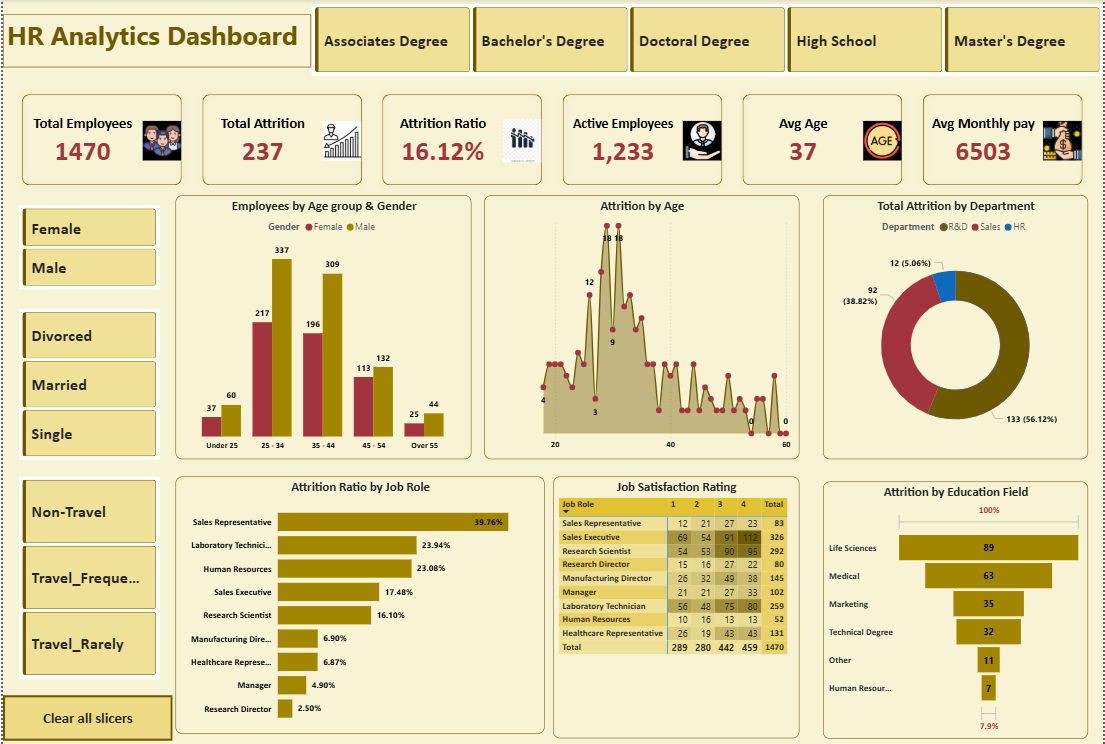

This screenshot's page, from the dashboard's own definition file:
{"tool":"powerbi","page":{"name":"Page 1","canvas":[1600,1100],"ordinal":0},"visuals":[{"type":"cardVisual","fields":{"Data":["HR data.Total Employees","HR data.Total Attrition","HR data.Attrition Ratio","HR data.Active Employees","Avg(HR data.Age)","Avg(HR data.Monthly Income)"]},"box":[0,125.8,1600,188.7],"z":0},{"type":"clusteredColumnChart","title":"Employees by Age group & Gender","fields":{"Category":["HR data.Age Group"],"Y":["HR data.Total Employees"],"Series":["HR data.Gender"]},"box":[251.6,300,430.6,383.9],"z":1000},{"type":"lineChart","title":" Attrition by Age","fields":{"Category":["HR data.Age"],"Y":["HR data.Total Attrition"]},"box":[700,300,458.1,383.9],"z":2000},{"type":"donutChart","fields":{"Category":["HR data.Department"],"Y":["HR data.Total Attrition"]},"box":[1193.5,300,385.5,383.9],"z":3000},{"type":"clusteredBarChart","fields":{"Category":["HR data.Job Role"],"Y":["HR data.Attrition Ratio"]},"box":[251.6,709.7,537.1,374.2],"z":4000},{"type":"pivotTable","title":"Job Satisfaction Rating","fields":{"Rows":["HR data.Job Role"],"Columns":["HR data.Job Satisfaction"],"Values":["HR data.Total Employees"]},"box":[800,709.7,358.1,380.6],"z":5000},{"type":"funnel","title":"Attrition  by Education Field","fields":{"Category":["HR data.Education Field"],"Y":["HR data.Total Attrition"]},"box":[1193.5,716.1,385.5,374.2],"z":6000},{"type":"advancedSlicerVisual","fields":{"Values":["HR data.Gender"]},"box":[24.2,314.5,204.8,122.6],"z":6001,"group":"g1"},{"type":"advancedSlicerVisual","fields":{"Values":["HR data.Marital Status"]},"box":[24.2,464.5,204.8,219.4],"z":6002,"group":"g1"},{"type":"advancedSlicerVisual","fields":{"Values":["HR data.Business Travel"]},"box":[24.2,709.7,204.8,295.2],"z":6003,"group":"g1"},{"type":"advancedSlicerVisual","fields":{"Values":["HR data.Education"]},"box":[448.4,21,1151.6,104.8],"z":6004},{"type":"actionButton","box":[0,1027.4,246.8,66.1],"z":6005},{"type":"textbox","box":[0,35.5,448.4,77.4],"z":6006},{"type":"group","id":"g1","title":"Group 2","box":[24.2,314.5,204.8,690.3],"z":6008}]}

Visuals, with their boxes in screenshot pixels (x1, y1, x2, y2), scaled from the page's 1600x1100 canvas onto the 1105x744 screenshot:
cardVisual - HR data.Total Employees x HR data.Total Attrition: [x1=0, y1=85, x2=1104, y2=213]
"Employees by Age group & Gender" clusteredColumnChart: [x1=174, y1=203, x2=471, y2=463]
" Attrition by Age" lineChart: [x1=483, y1=203, x2=800, y2=463]
donutChart - HR data.Department x HR data.Total Attrition: [x1=824, y1=203, x2=1090, y2=463]
clusteredBarChart - HR data.Job Role x HR data.Attrition Ratio: [x1=174, y1=480, x2=545, y2=733]
"Job Satisfaction Rating" pivotTable: [x1=552, y1=480, x2=800, y2=737]
"Attrition  by Education Field" funnel: [x1=824, y1=484, x2=1090, y2=737]
advancedSlicerVisual - HR data.Gender: [x1=17, y1=213, x2=158, y2=296]
advancedSlicerVisual - HR data.Marital Status: [x1=17, y1=314, x2=158, y2=463]
advancedSlicerVisual - HR data.Business Travel: [x1=17, y1=480, x2=158, y2=680]
advancedSlicerVisual - HR data.Education: [x1=310, y1=14, x2=1104, y2=85]
actionButton: [x1=0, y1=695, x2=170, y2=740]
textbox: [x1=0, y1=24, x2=310, y2=76]
"Group 2" group: [x1=17, y1=213, x2=158, y2=680]
